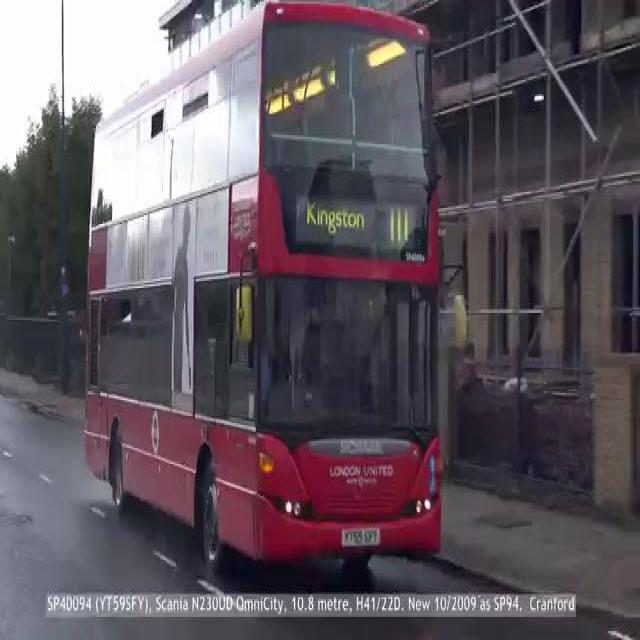motorcycle: (47, 0, 478, 615)
